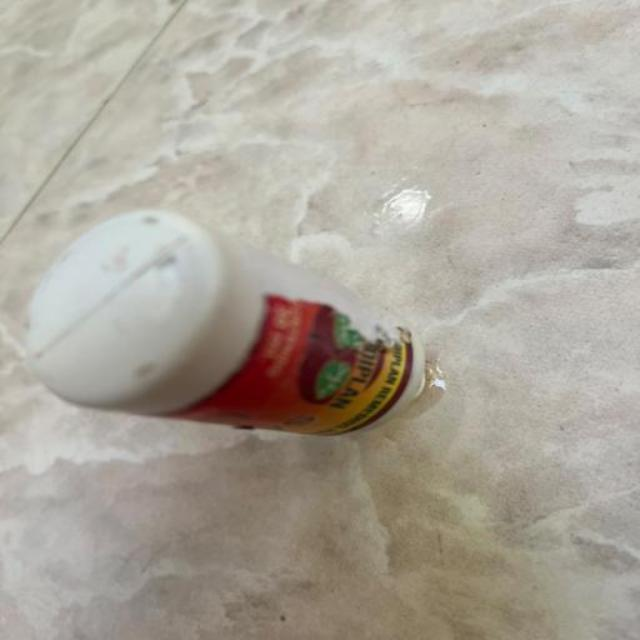HDPE: (32, 191, 523, 488)
